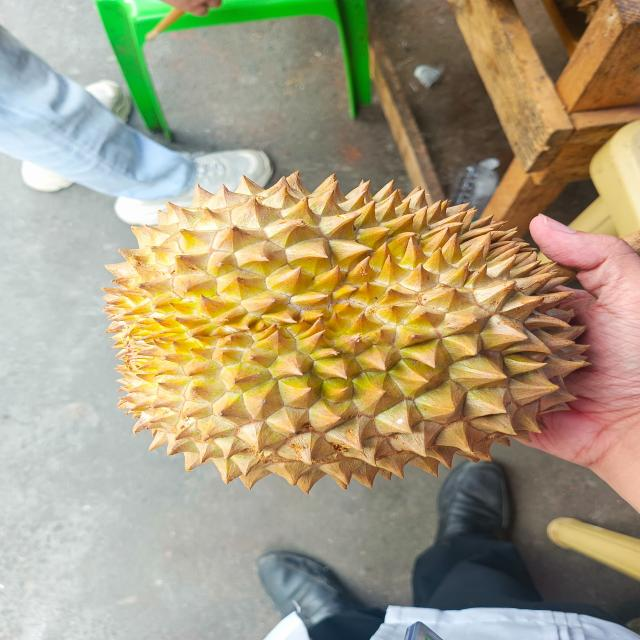mature: (100, 165, 580, 490)
